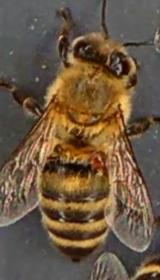varroa_mite: (84, 150, 110, 170)
